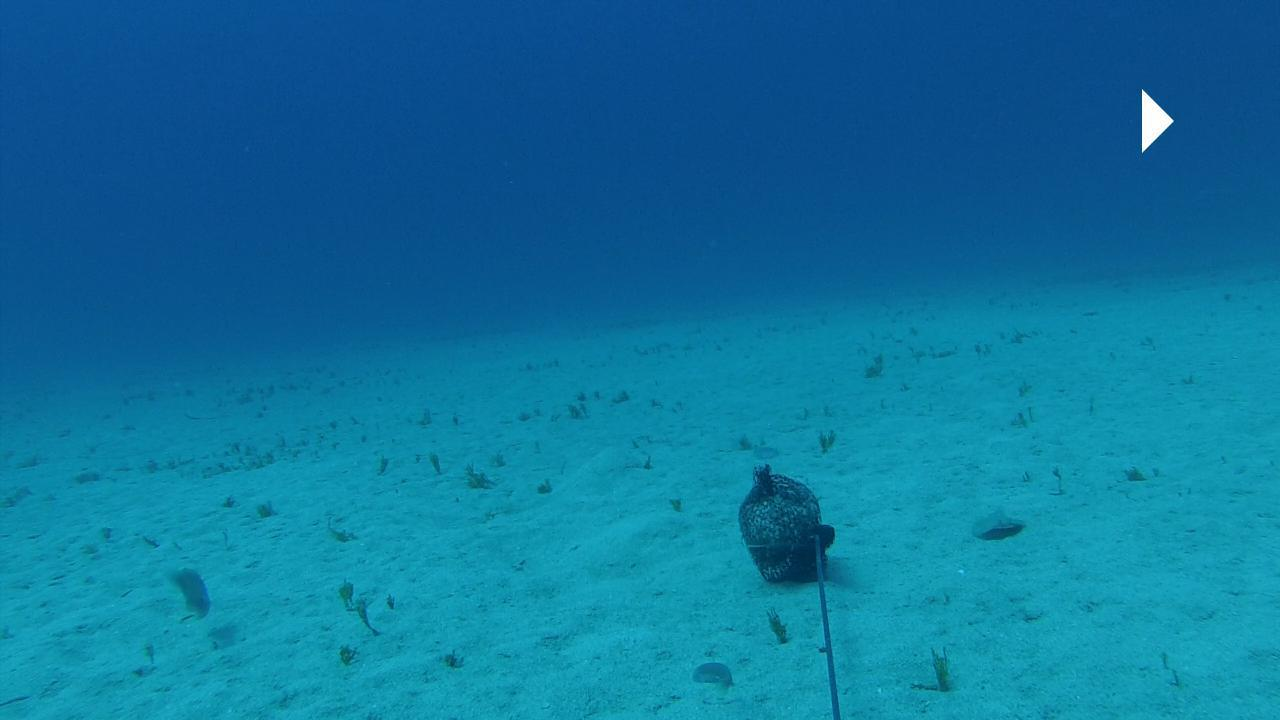bothus: (967, 504, 1027, 542)
raor: (165, 564, 215, 619), (687, 663, 734, 688)
